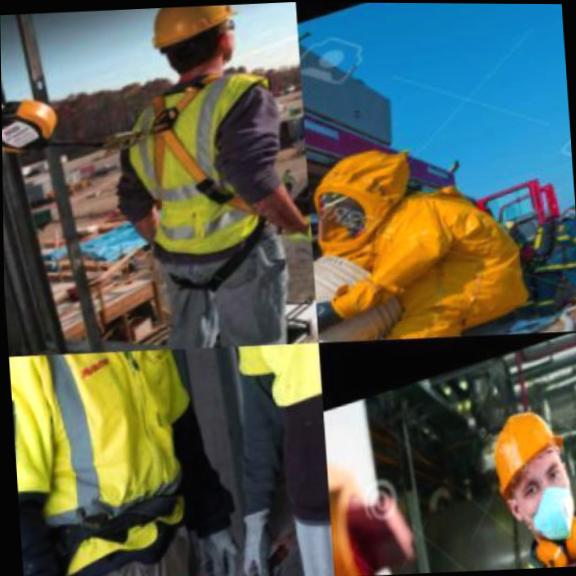safety_vest: (91, 34, 313, 279), (357, 156, 548, 340)
